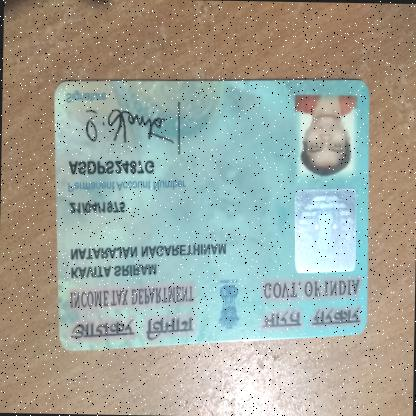pan_card: (46, 64, 377, 370)
